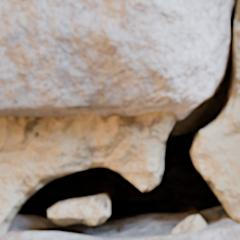brick: (0, 0, 231, 115), (117, 220, 239, 239), (0, 233, 101, 239)
crack: (0, 0, 238, 239)
